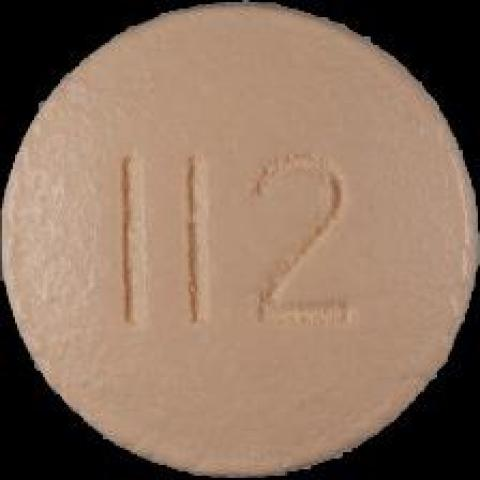Pill: (6, 5, 478, 478)
